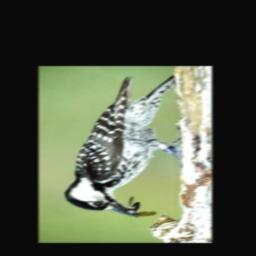Woodpecker: (63, 73, 176, 217)
